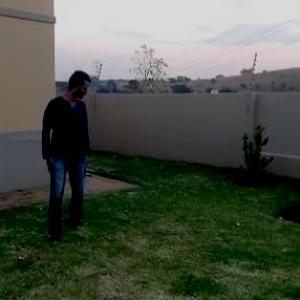follow: (35, 65, 96, 243)
